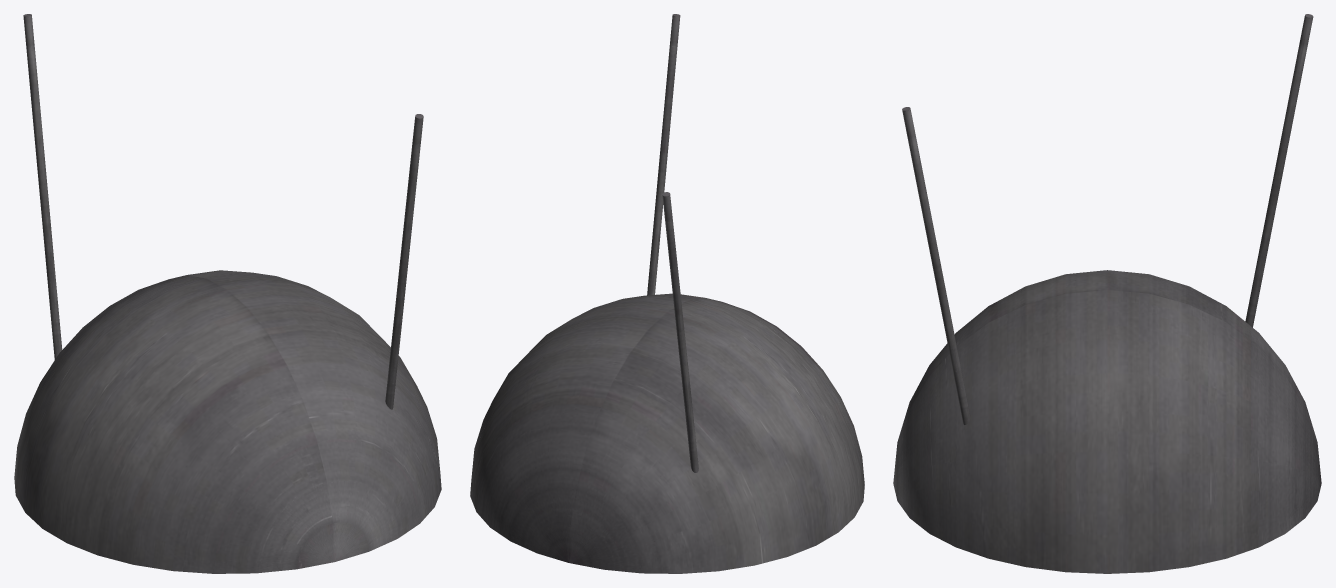
The model's file is antena.obj.
3 views of the same model, side by side, from view 1: azimuth 30°, elevation 25°; view 2: azimuth 150°, elevation 25°; view 3: azimuth 270°, elevation 25° (orthographic). The views are drawn at different scales.
Parts seen in each view (by area): view 1: Sphere001, Cylinder001, Cylinder002; view 2: Sphere001, Cylinder002, Cylinder001; view 3: Sphere001, Cylinder002, Cylinder001.
Boxes of the visible parts, bbox=[...] form: Sphere001: bbox=[14, 270, 441, 573]; Cylinder001: bbox=[23, 14, 62, 359]; Cylinder002: bbox=[385, 114, 423, 409]; Sphere001: bbox=[470, 293, 864, 573]; Cylinder002: bbox=[647, 14, 680, 295]; Cylinder001: bbox=[662, 192, 698, 472]; Sphere001: bbox=[893, 270, 1321, 573]; Cylinder002: bbox=[902, 107, 970, 424]; Cylinder001: bbox=[1245, 14, 1313, 327].
Bounding box in the file's own units: 10.01 × 10.87 × 10.01.
Materials: 1 (1 with a texture image).
